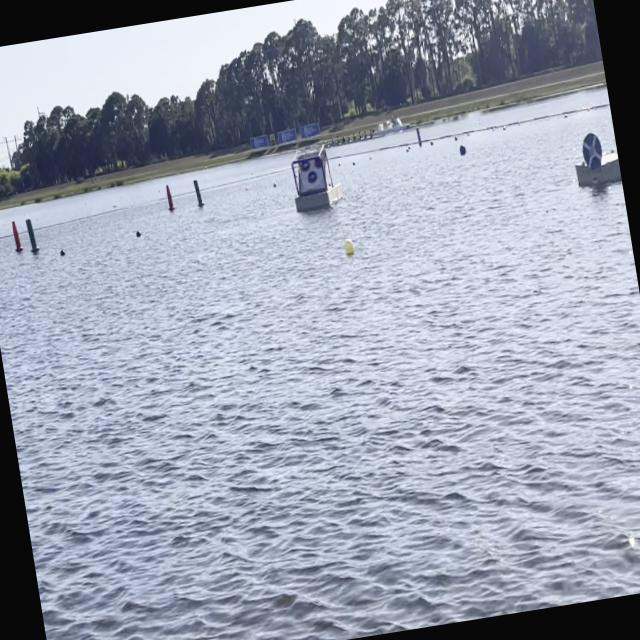buoy: (342, 236, 357, 258), (457, 140, 468, 154), (58, 245, 66, 258), (134, 227, 142, 239)
